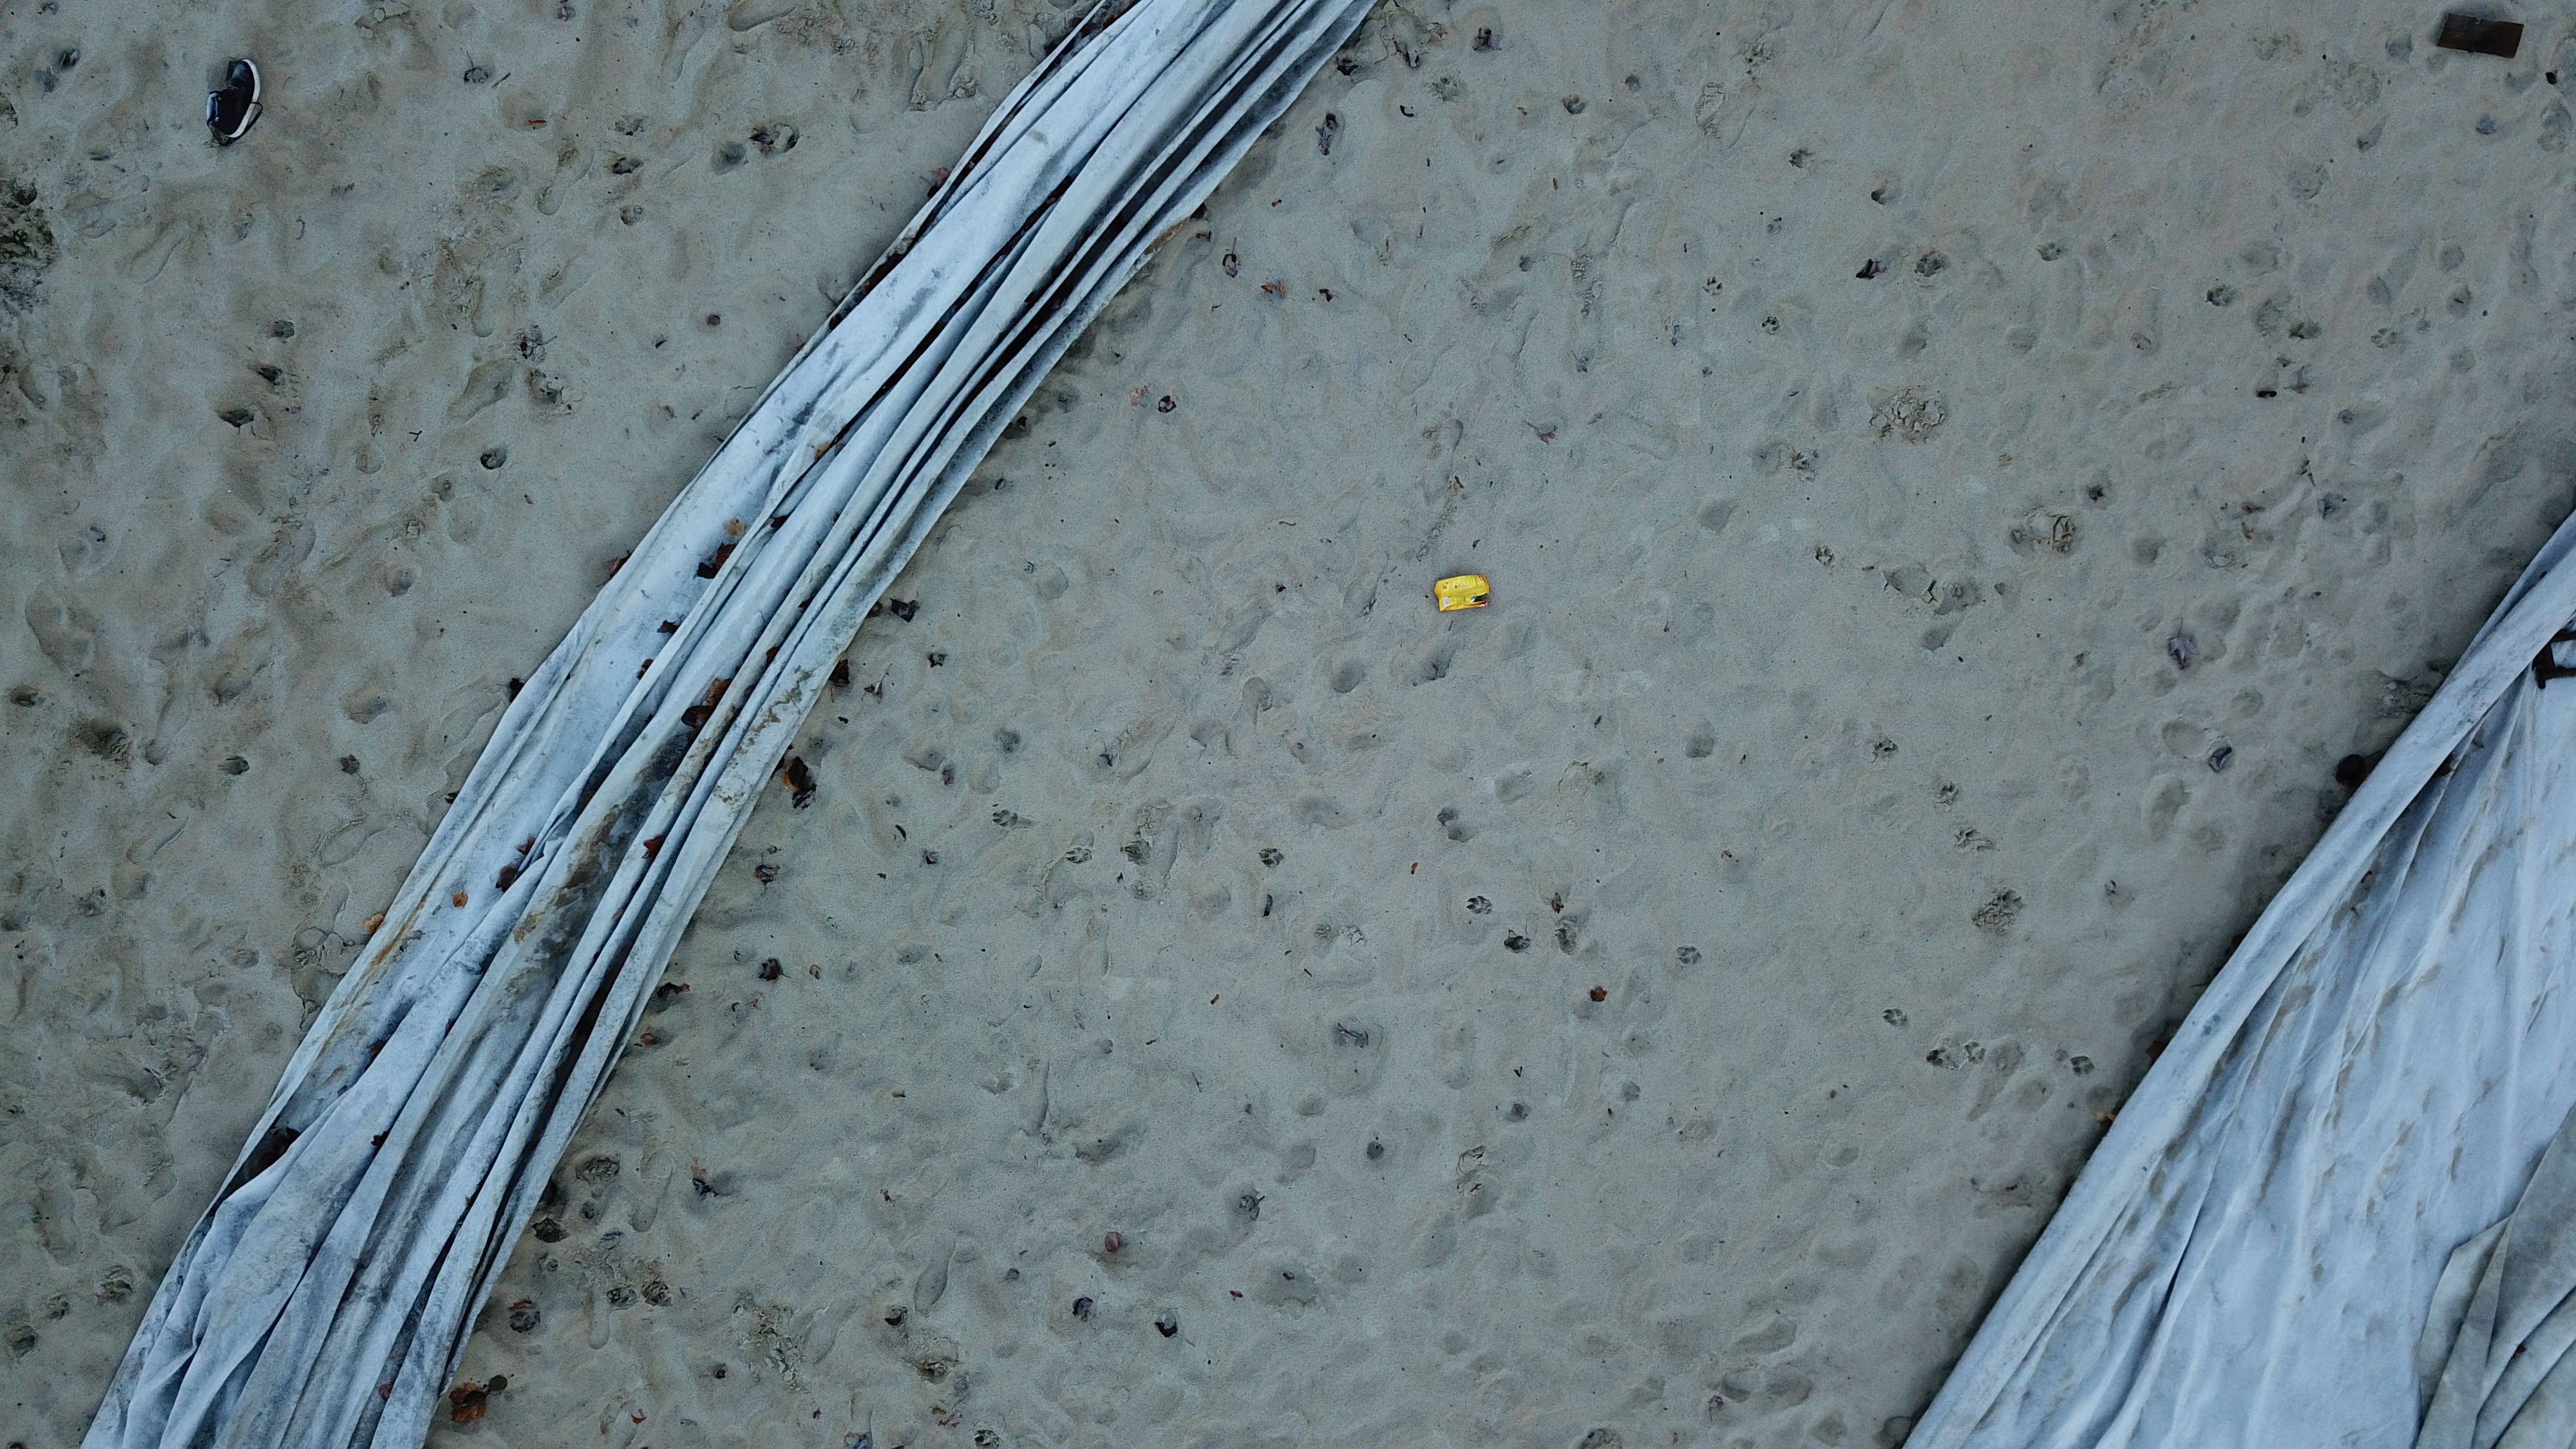Other: (202, 58, 269, 149)
Plastic: (1435, 570, 1495, 617)
